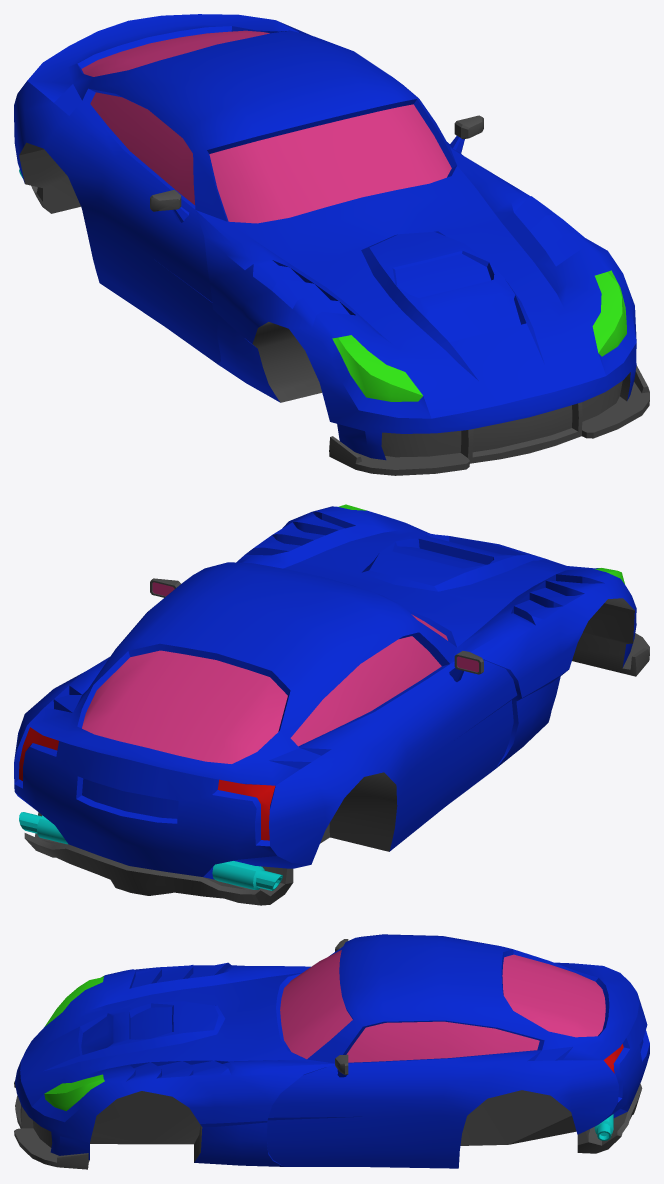
3 renders of one model, top to bottom at view 1: azimuth 30°, elevation 25°; view 2: azimuth 150°, elevation 25°; view 3: azimuth 270°, elevation 25°, orthographic. The views are drawn at different scales.
Visible parts, largest first — view 1: C48; view 2: C48; view 3: C48.
Part boxes in pixels (x1,y1,x2,y2): C48: [14, 14, 649, 475]; C48: [14, 504, 649, 905]; C48: [14, 934, 649, 1169].
Bounding box in the file's own units: 88.1 × 50.93 × 188.
